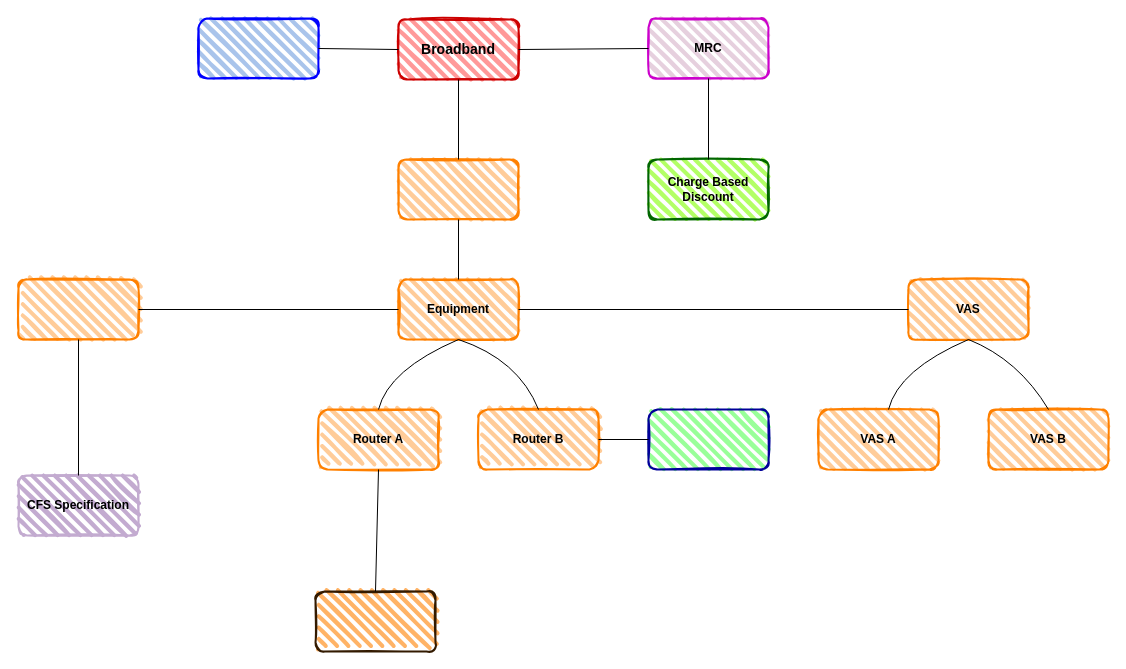
Some shapes in this 1126 by 669 pixel diagram are drawn without their labels. Here are the shapes that lost their labels. From the top down, the centre of each, then its label:
At pixel 258 48: "Standalone NRC".
At pixel 458 189: "Broadband Product Specification".
At pixel 78 309: "Config".
At pixel 708 439: "NRC".
At pixel 375 621: "Physical Resource".
